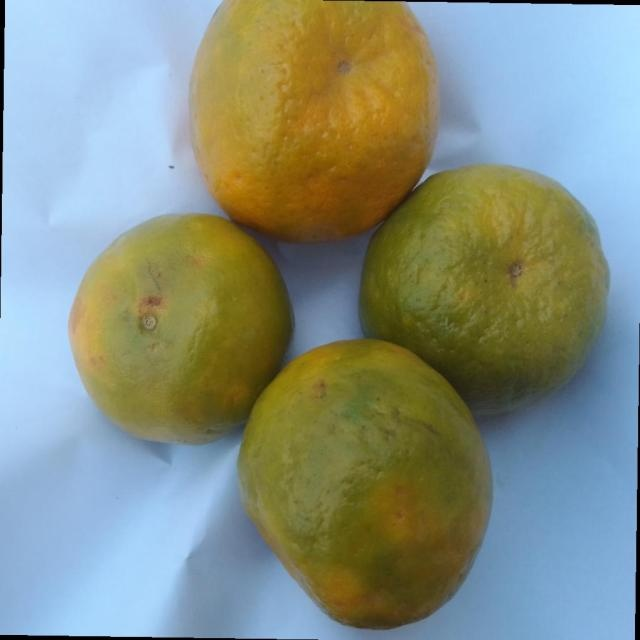agrume: (236, 336, 494, 630), (357, 162, 611, 416), (187, 0, 440, 243), (67, 211, 294, 445)
